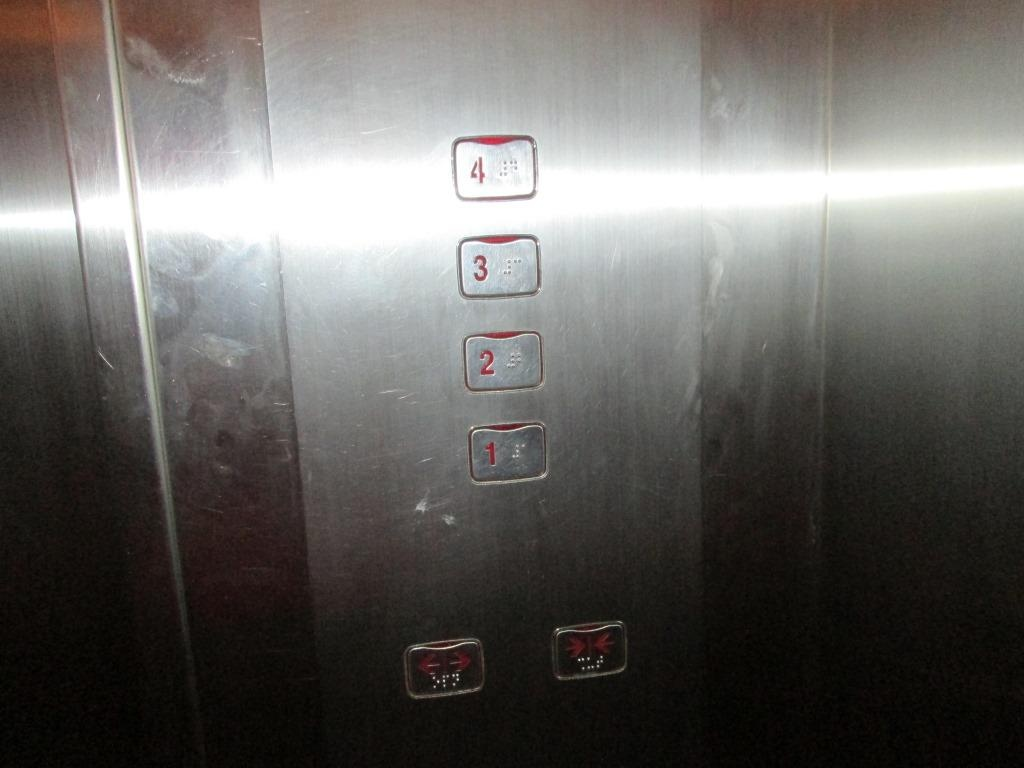1: (461, 418, 560, 487)
2: (459, 329, 548, 392)
3: (451, 231, 548, 307)
4: (447, 127, 542, 205)
close: (542, 618, 638, 683)
open: (399, 632, 494, 704)
